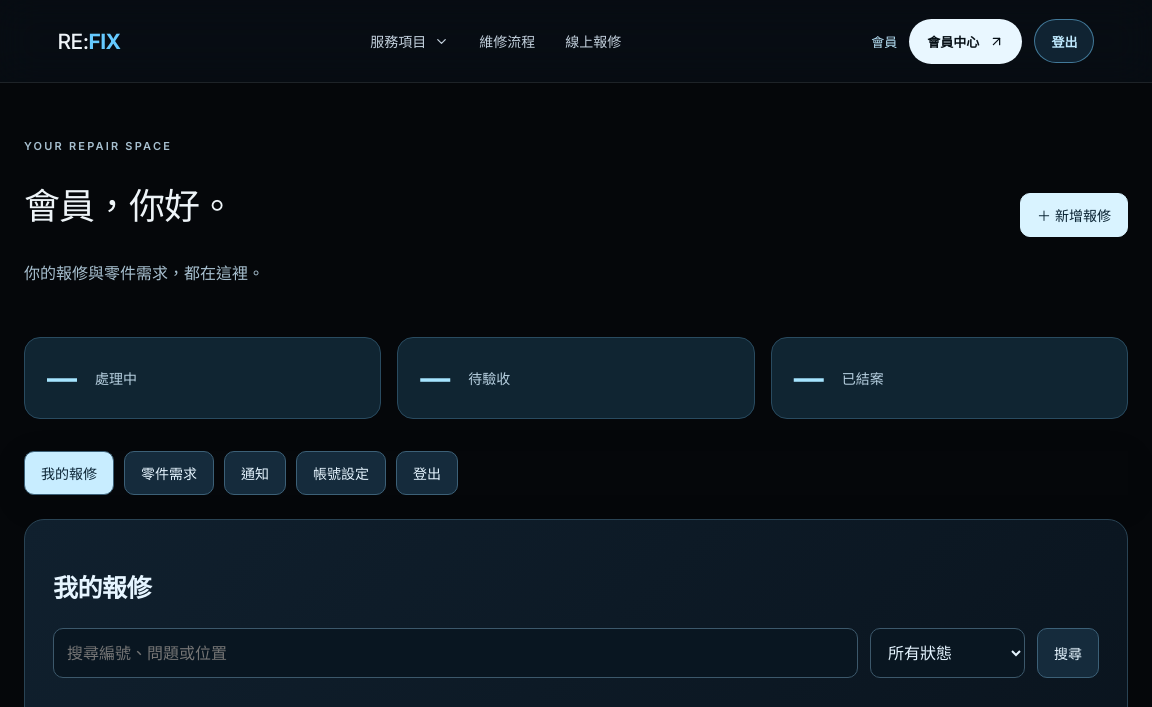
Scenario: returning from a ticket preserves search, status and current page
Expected: the heading "我的報修" is shown, [53, 573, 151, 603]
Select "待派工" in the dropdown named "工單狀態" at [948, 653], box [870, 628, 1025, 678]
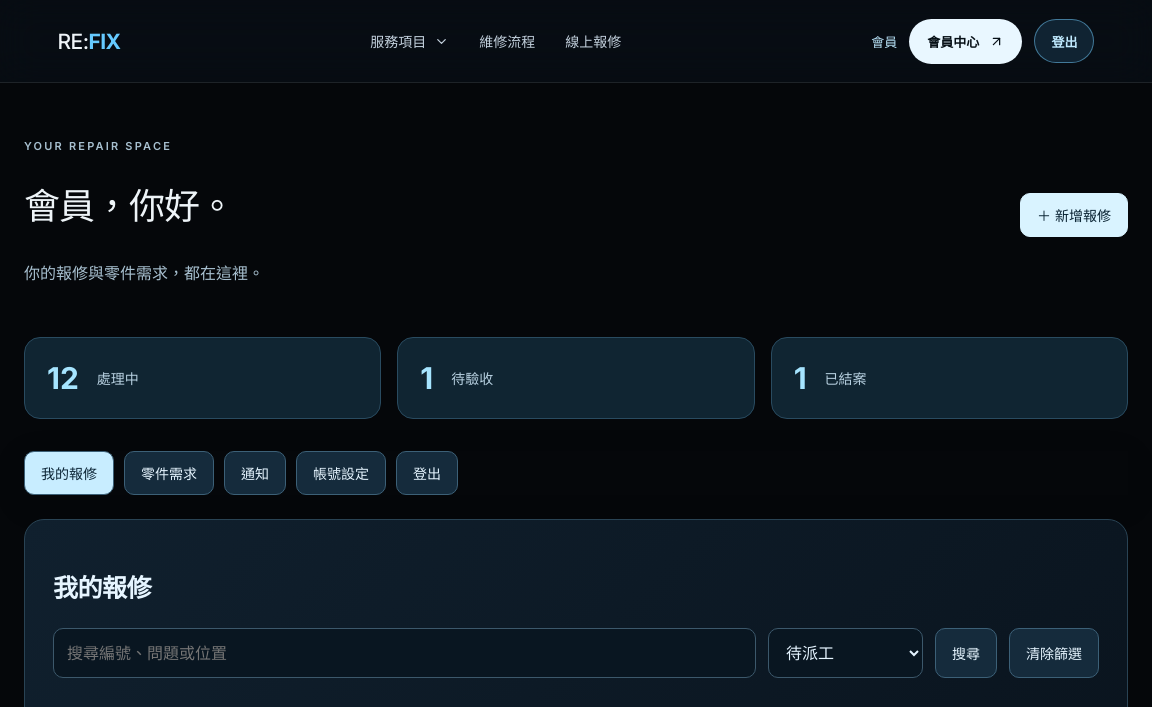
Type "冷氣" into the field named "搜尋我的工單" at [404, 653], box [53, 628, 756, 678]
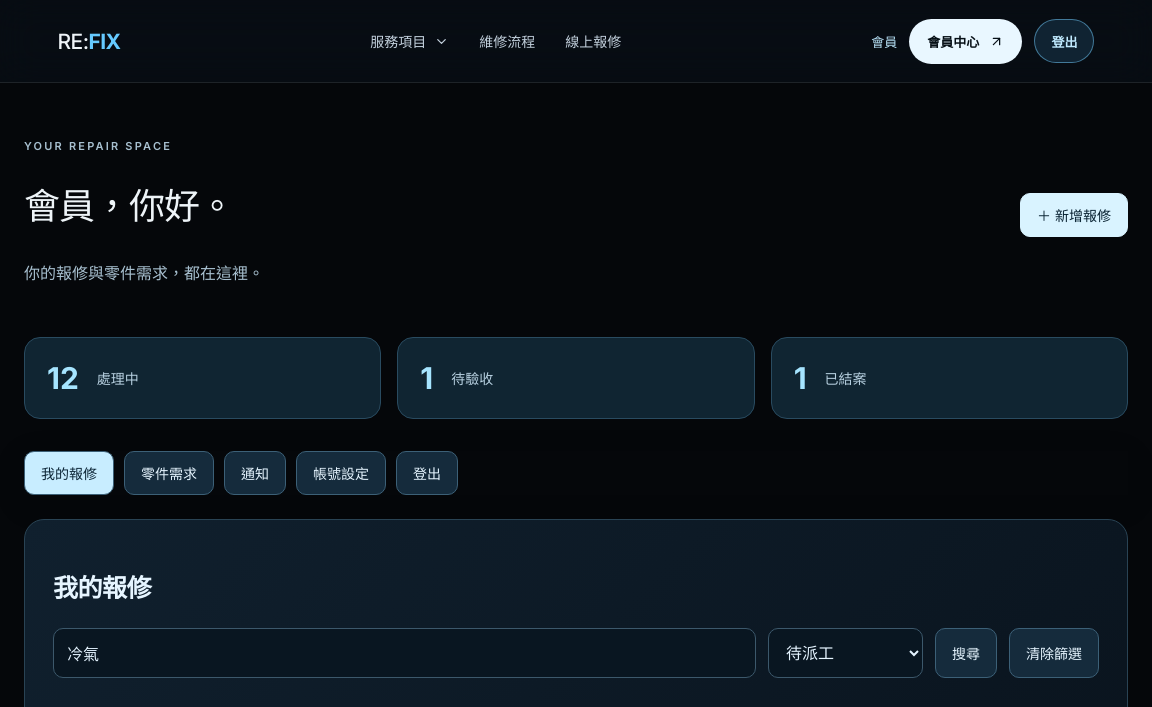
Click the button "搜尋" at [966, 653], box [935, 628, 997, 678]
(page scrolled)
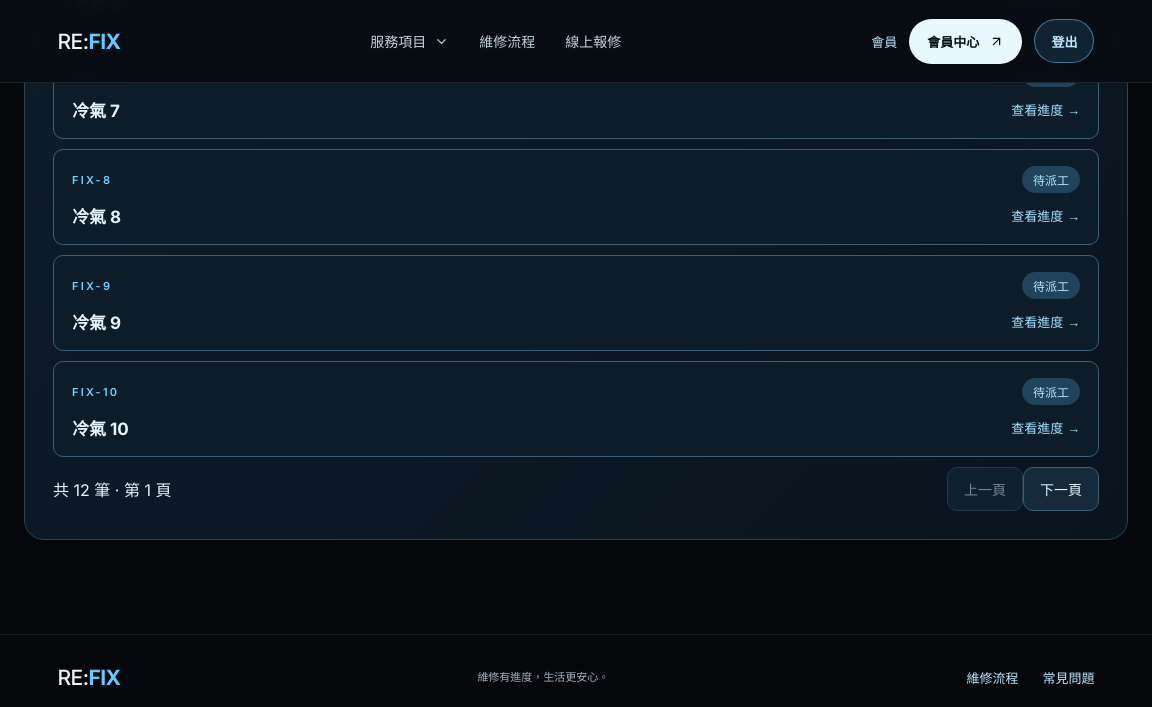
Result: the text "共 12 筆 · 第 1 頁" is shown at [53, 477, 171, 501]
Click the button "下一頁" at [1061, 489], box [1023, 467, 1099, 511]
(page scrolled)
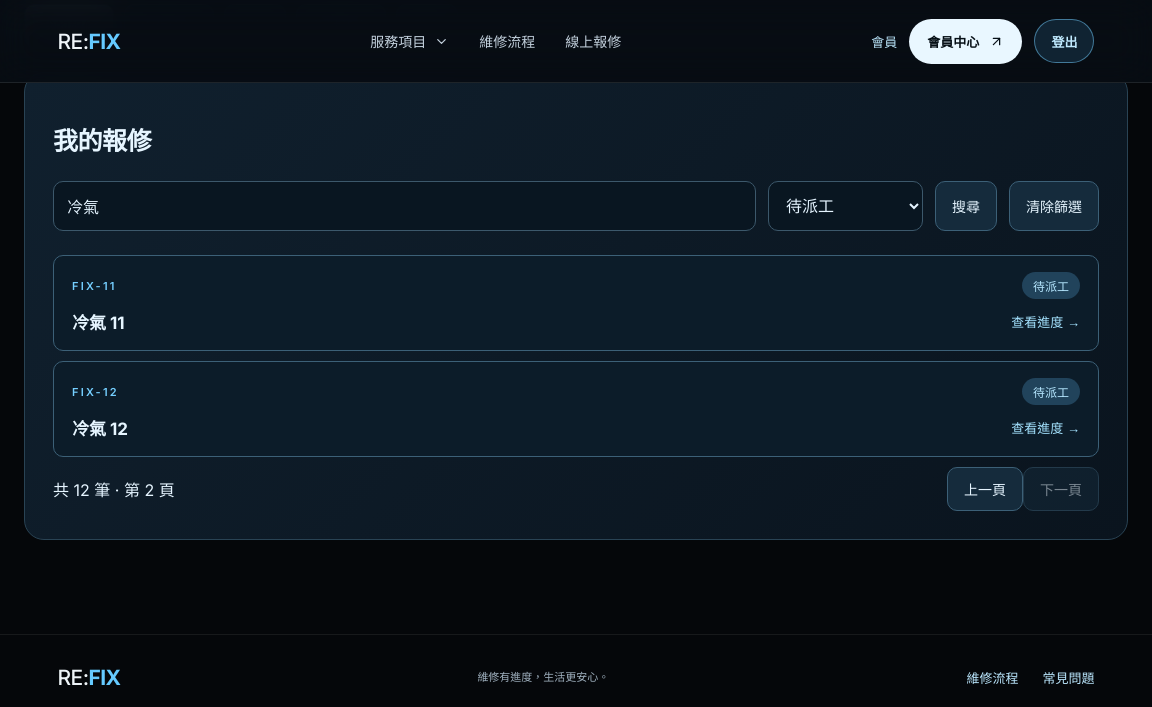
Result: the text "共 12 筆 · 第 2 頁" is shown at [53, 477, 175, 501]
Click the button "FIX-11 待派工 冷氣 11 查看進度 →" at [94, 286], box [53, 255, 1099, 351]
(page scrolled)
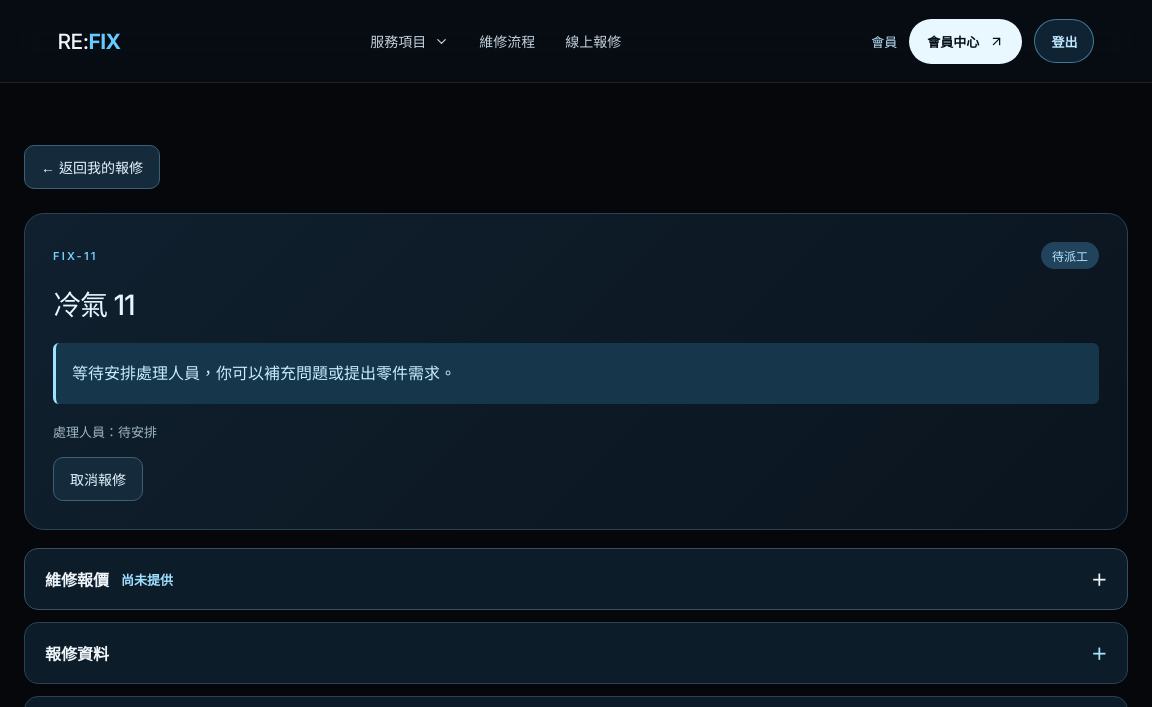
Result: the heading "冷氣 11" is shown at [53, 288, 135, 322]
Click the button "← 返回我的報修" at [92, 167], box [24, 145, 160, 189]
(page scrolled)
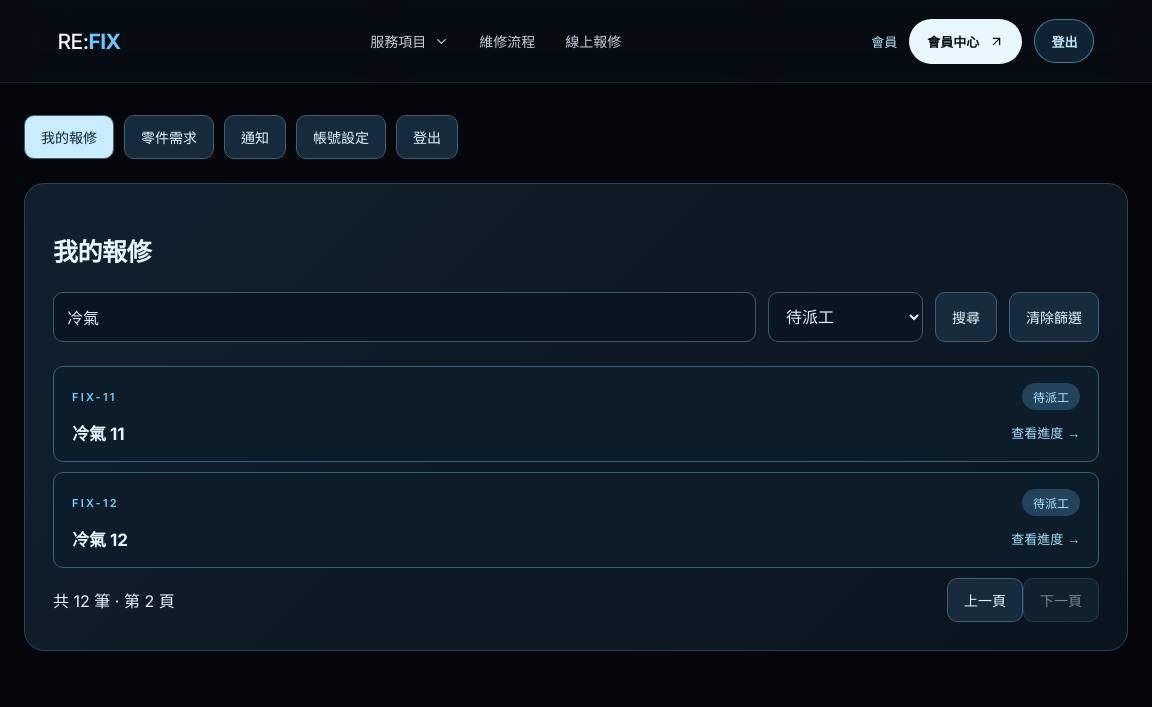
Result: the text "共 12 筆 · 第 2 頁" is shown at [53, 588, 175, 612]
Result: the field named "搜尋我的工單" holds "冷氣" at [53, 292, 756, 342]
Result: the dropdown named "工單狀態" shows "待派工" at [768, 292, 923, 342]
